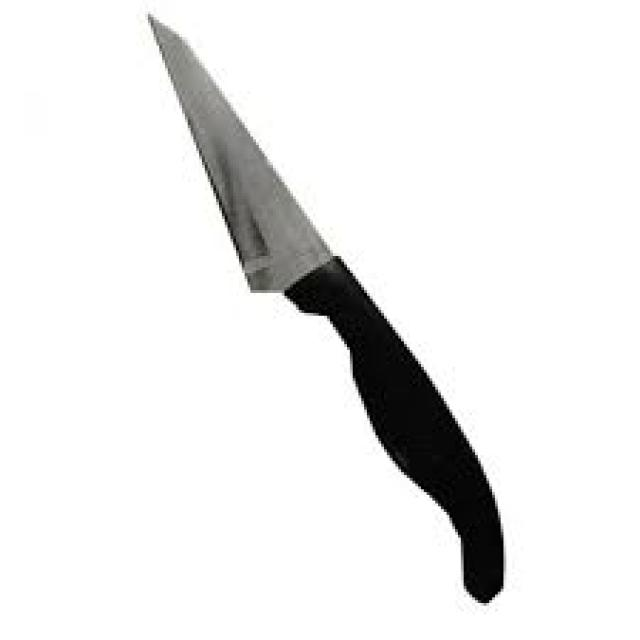Knife: (143, 11, 507, 603)
